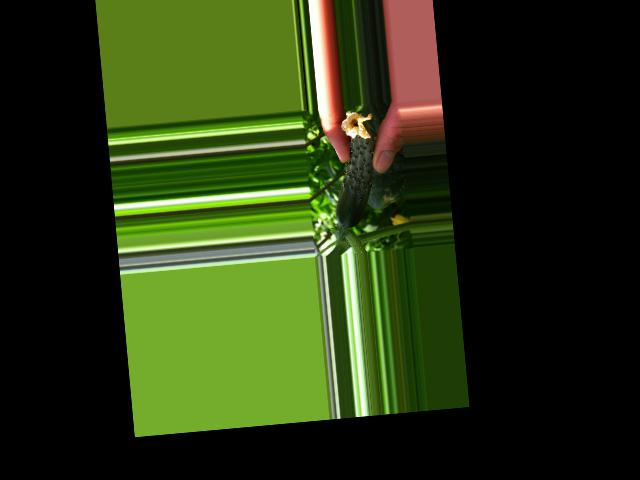cucumber: (327, 110, 382, 229)
